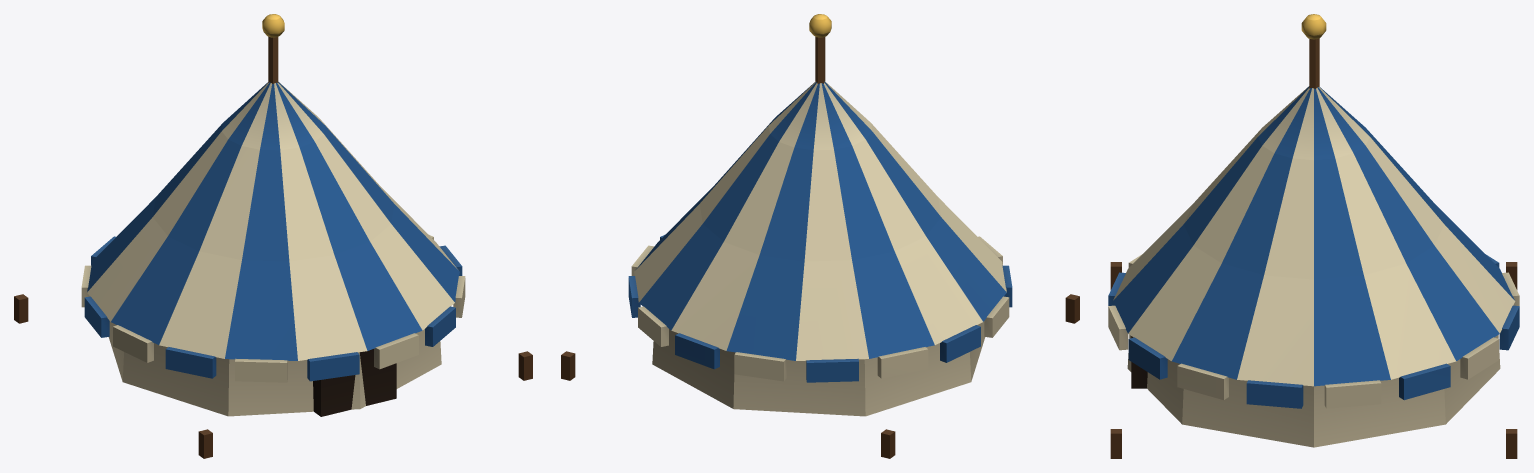
File: camp_tent_b.glb
3 renders of one model, left to right at view 1: azimuth 30°, elevation 25°; view 2: azimuth 150°, elevation 25°; view 3: azimuth 270°, elevation 25°, orthographic. The views are drawn at different scales.
Visible parts, largest first — view 1: camp_tent_b; view 2: camp_tent_b; view 3: camp_tent_b.
Boxes of the visible parts, x1,y1,x2,y2 form: camp_tent_b: [14, 14, 532, 458]; camp_tent_b: [561, 14, 1079, 458]; camp_tent_b: [1108, 14, 1519, 458].
Size of the model in its own units: 0.4413 by 0.424 by 0.4413.
